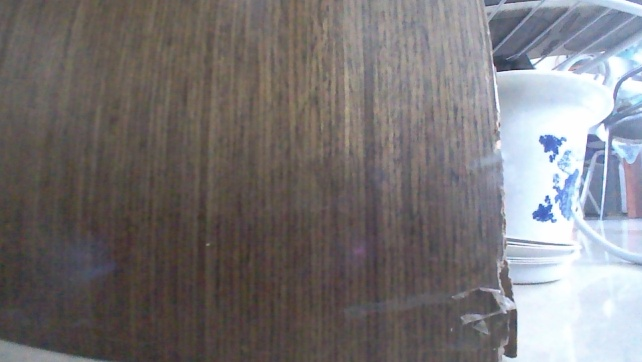wire: (568, 210, 641, 265)
